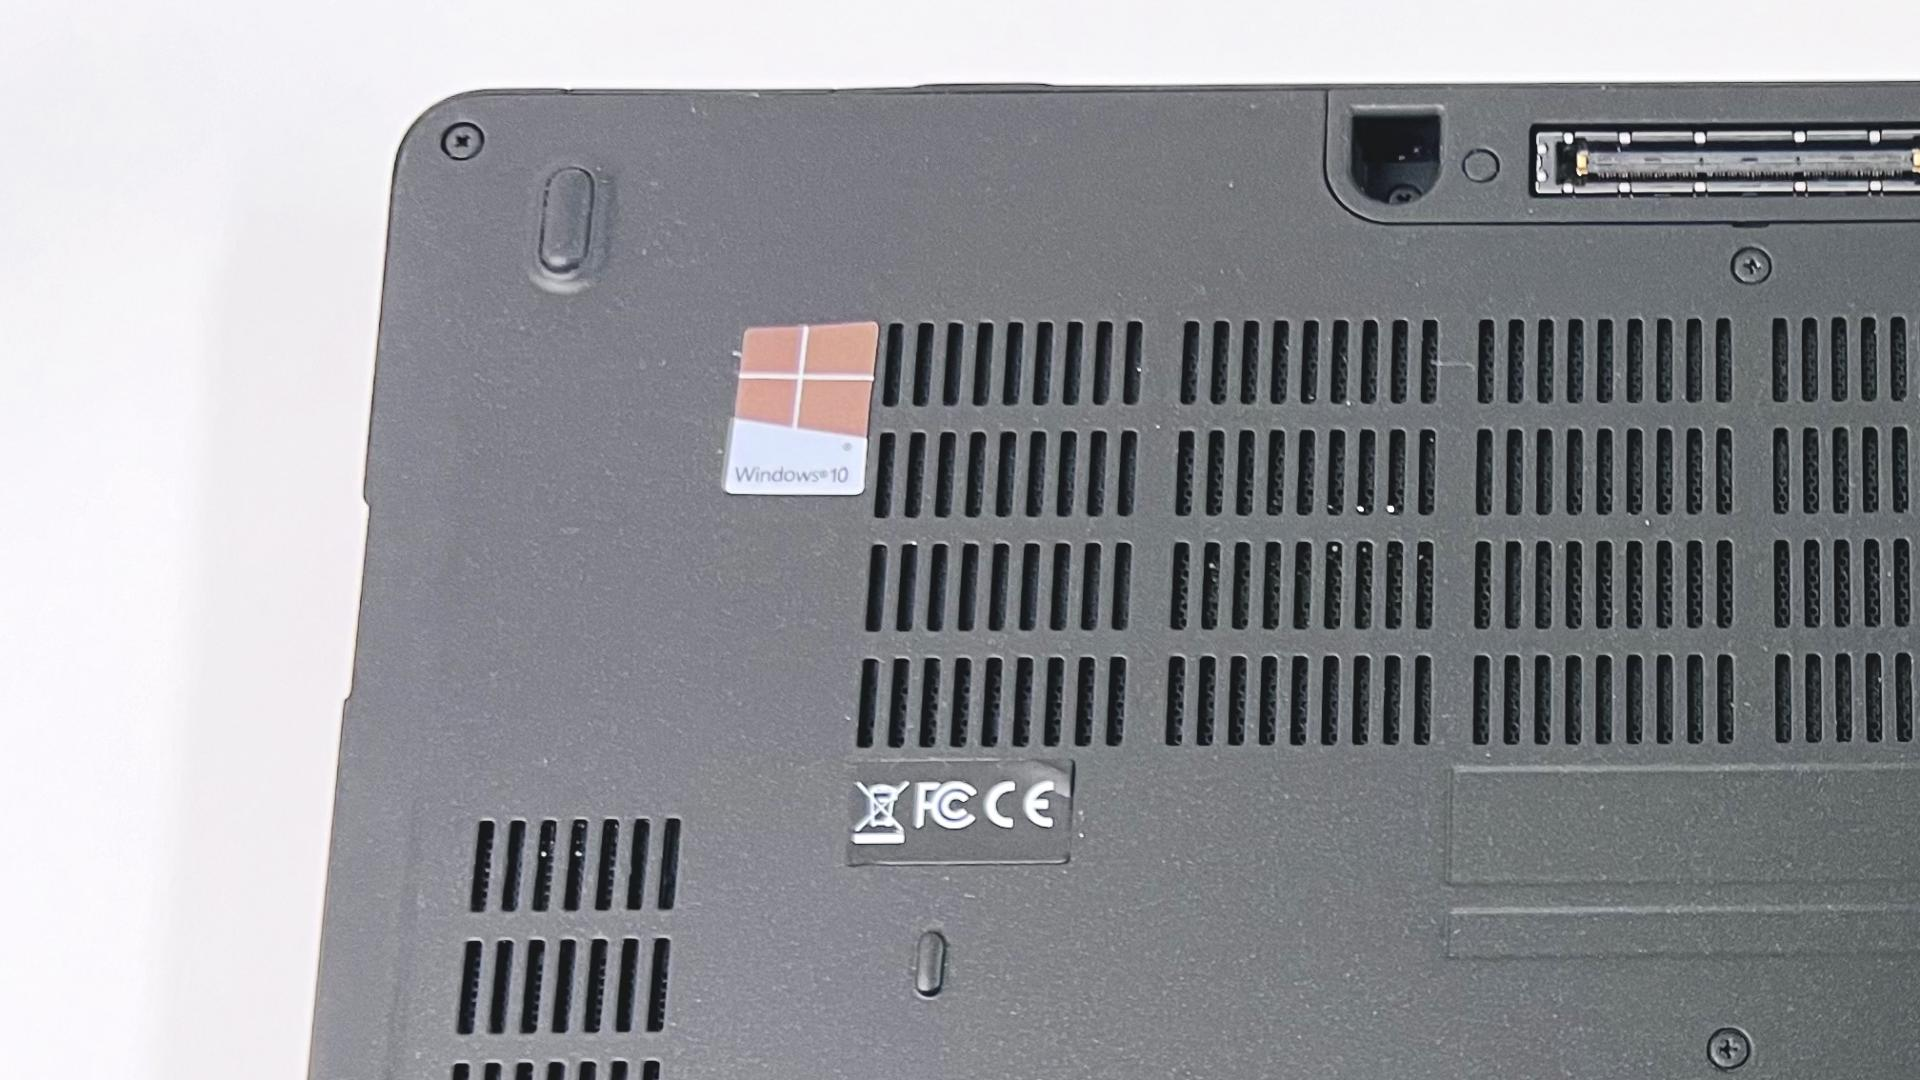scratches: (1435, 360, 1474, 372)
